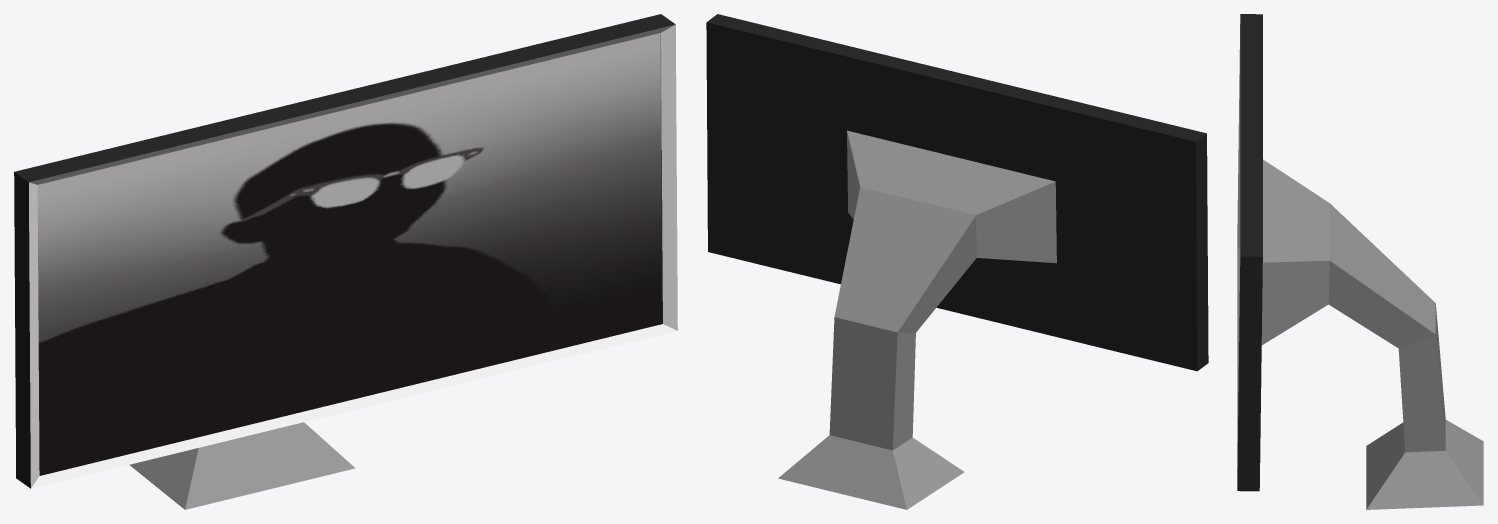
Rendered from monitor - CCTV.FBX.
The picture shows the model from 3 angles, left to right: view 1: azimuth 30°, elevation 25°; view 2: azimuth 150°, elevation 25°; view 3: azimuth 270°, elevation 25°; orthographic projection. The views are drawn at different scales.
Visible parts, largest first — view 1: Screen, Box001; view 2: Box001; view 3: Box001.
Boxes of the visible parts, x1,y1,x2,y2 form: Screen: (37, 33, 662, 475); Box001: (14, 14, 677, 509); Box001: (706, 14, 1208, 509); Box001: (1237, 14, 1483, 509).
Size of the model in its own units: 65.77 by 43.3 by 28.25.
Materials: 4 (1 with a texture image).
